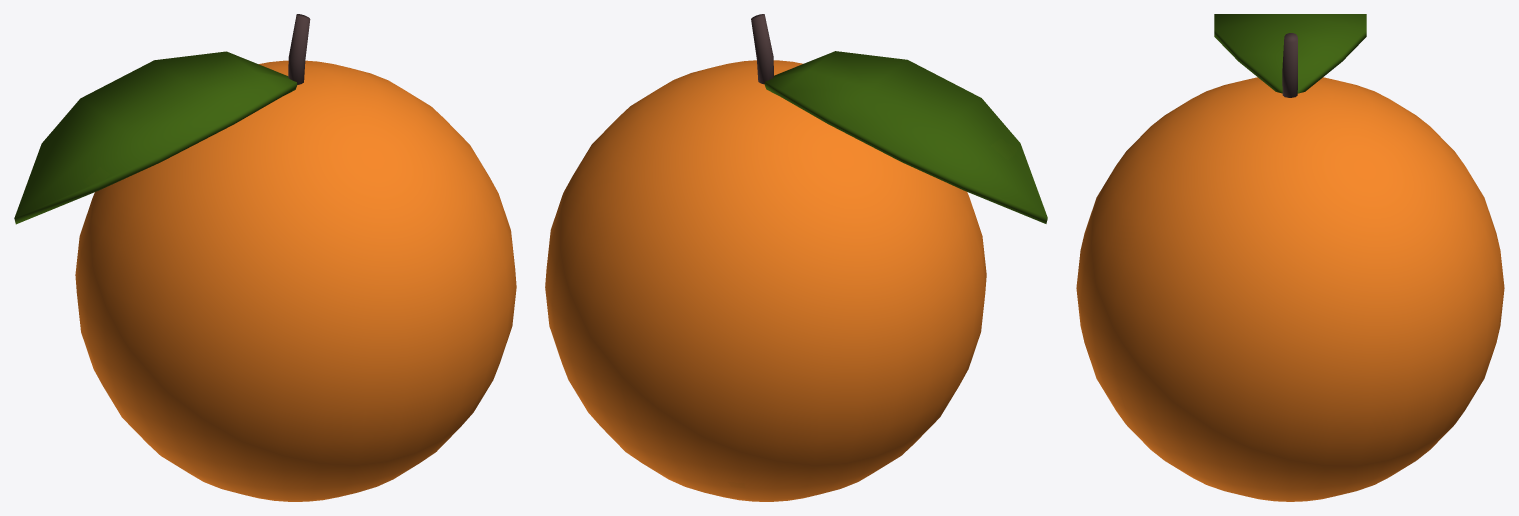
Rendered from orange.fbx.
3 views of the same model, side by side, from view 1: azimuth 30°, elevation 25°; view 2: azimuth 150°, elevation 25°; view 3: azimuth 270°, elevation 25° (orthographic). The views are drawn at different scales.
Parts seen in each view (by area): view 1: Sphere; view 2: Sphere; view 3: Sphere.
Boxes of the visible parts, x1=… form: Sphere: x1=14, y1=14, x2=516, y2=501; Sphere: x1=545, y1=14, x2=1047, y2=501; Sphere: x1=1076, y1=14, x2=1504, y2=501.
Size of the model in its own units: 113 by 106 by 91.29.
1 material, 1 textured.
